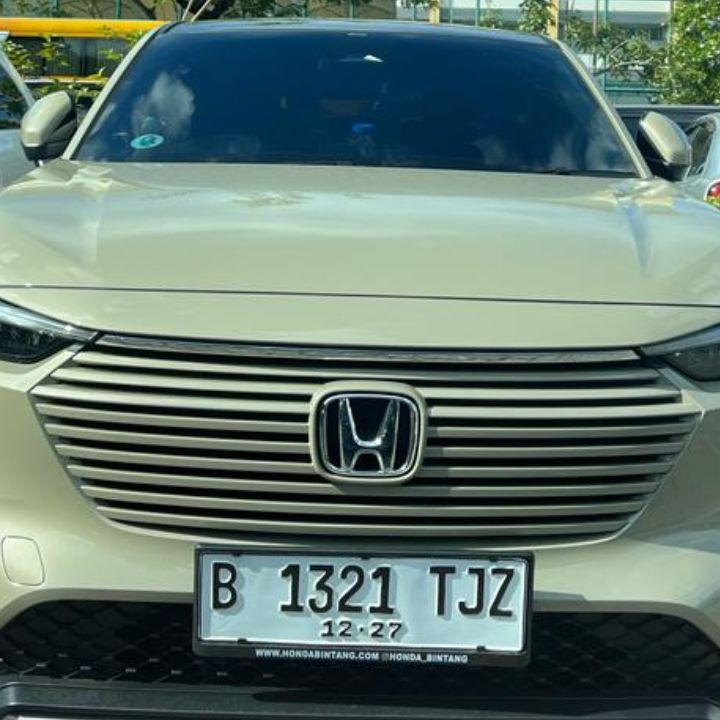plat: (194, 550, 532, 665)
